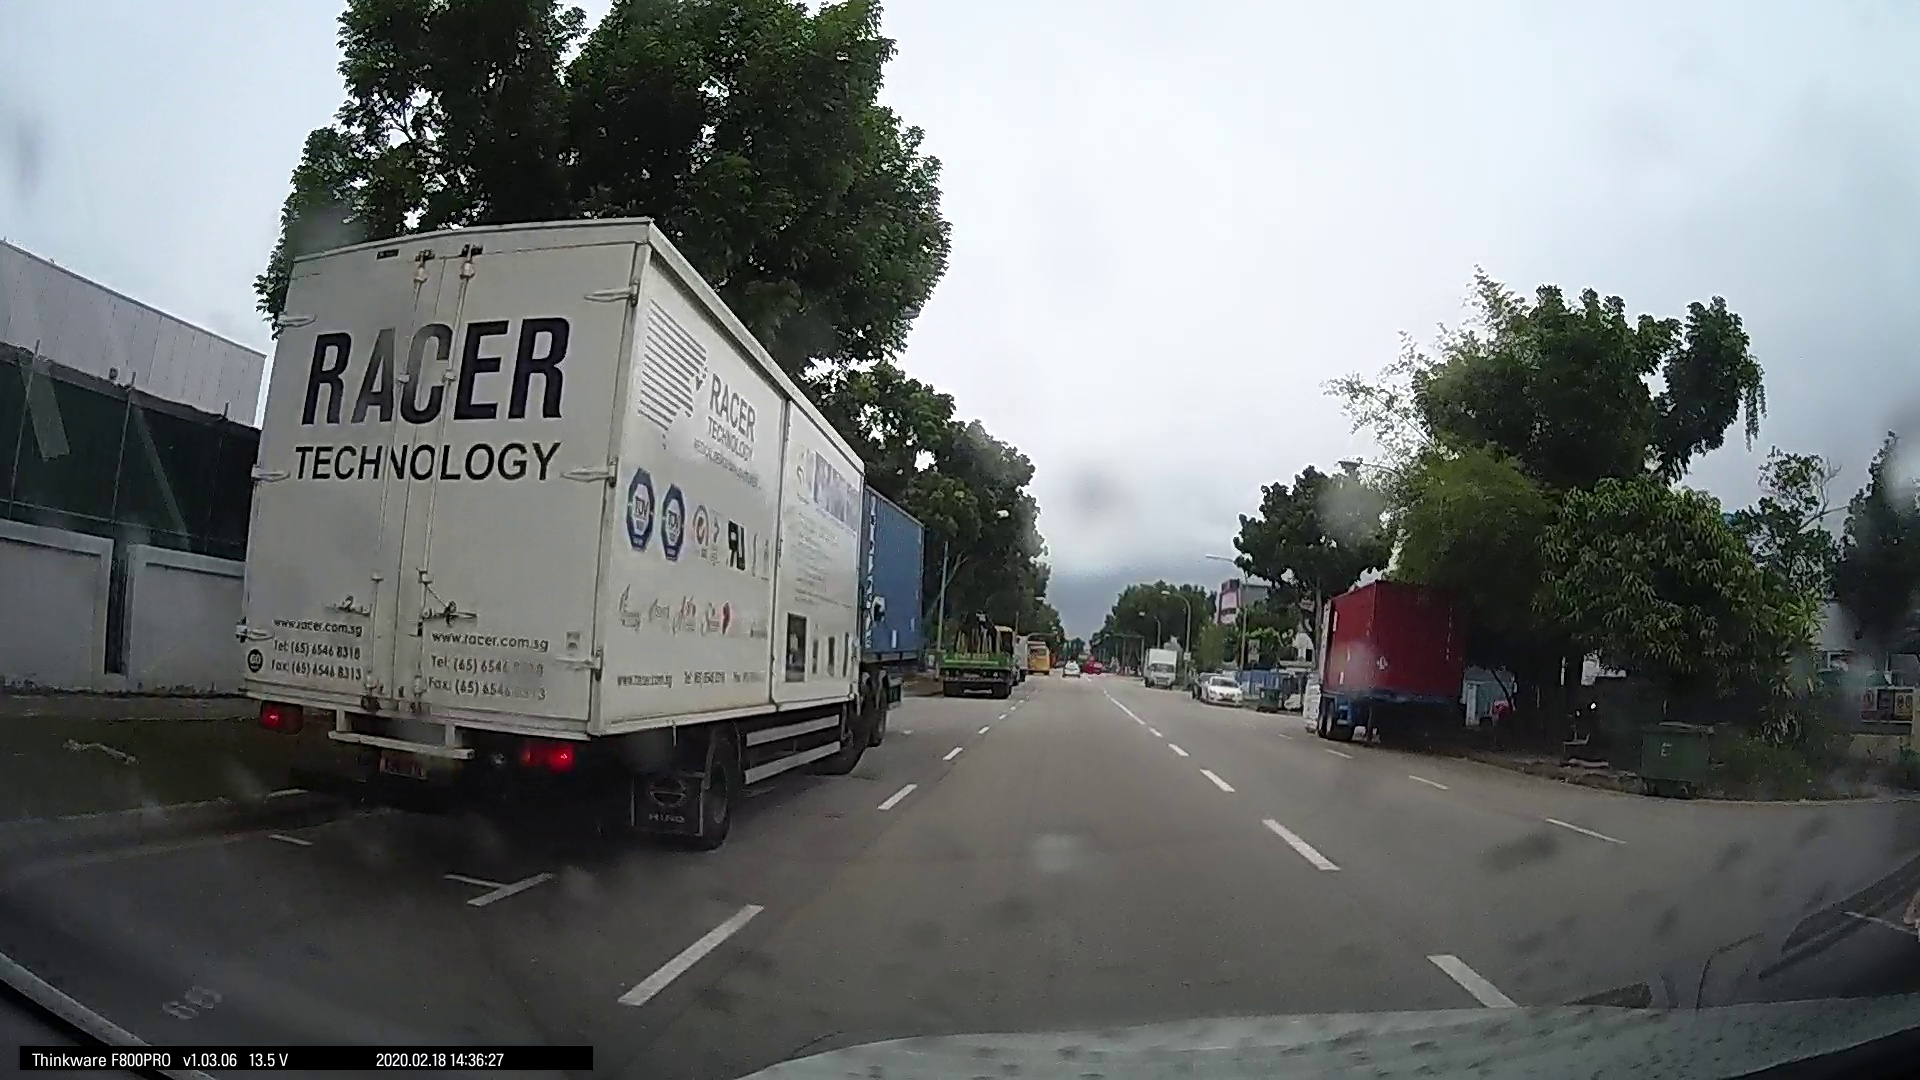Heavy Vehicle: (228, 200, 884, 847), (1303, 574, 1480, 753), (936, 617, 1014, 694)
Light Vehicle: (1189, 665, 1244, 705)
